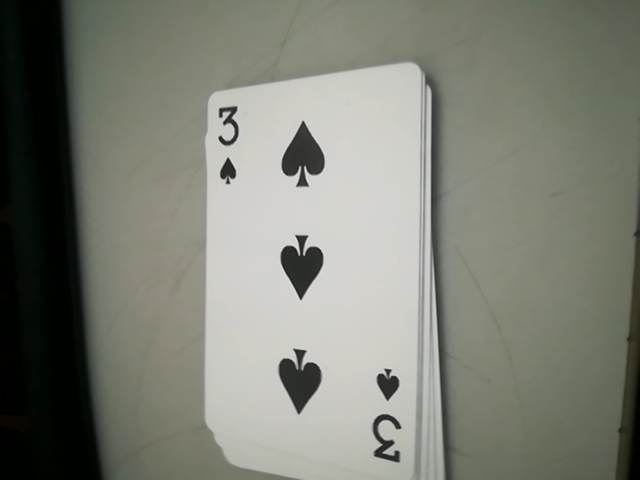ht 3: (206, 97, 250, 192)
